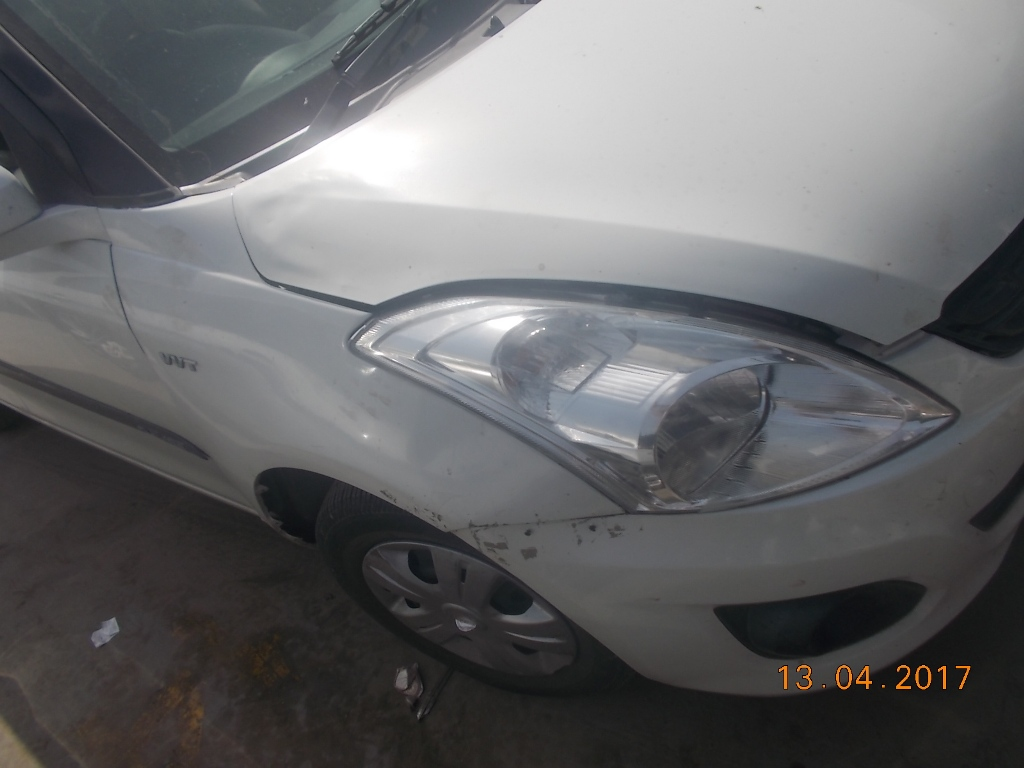Scratch_or_spot: (501, 525, 536, 563), (570, 520, 621, 544)
